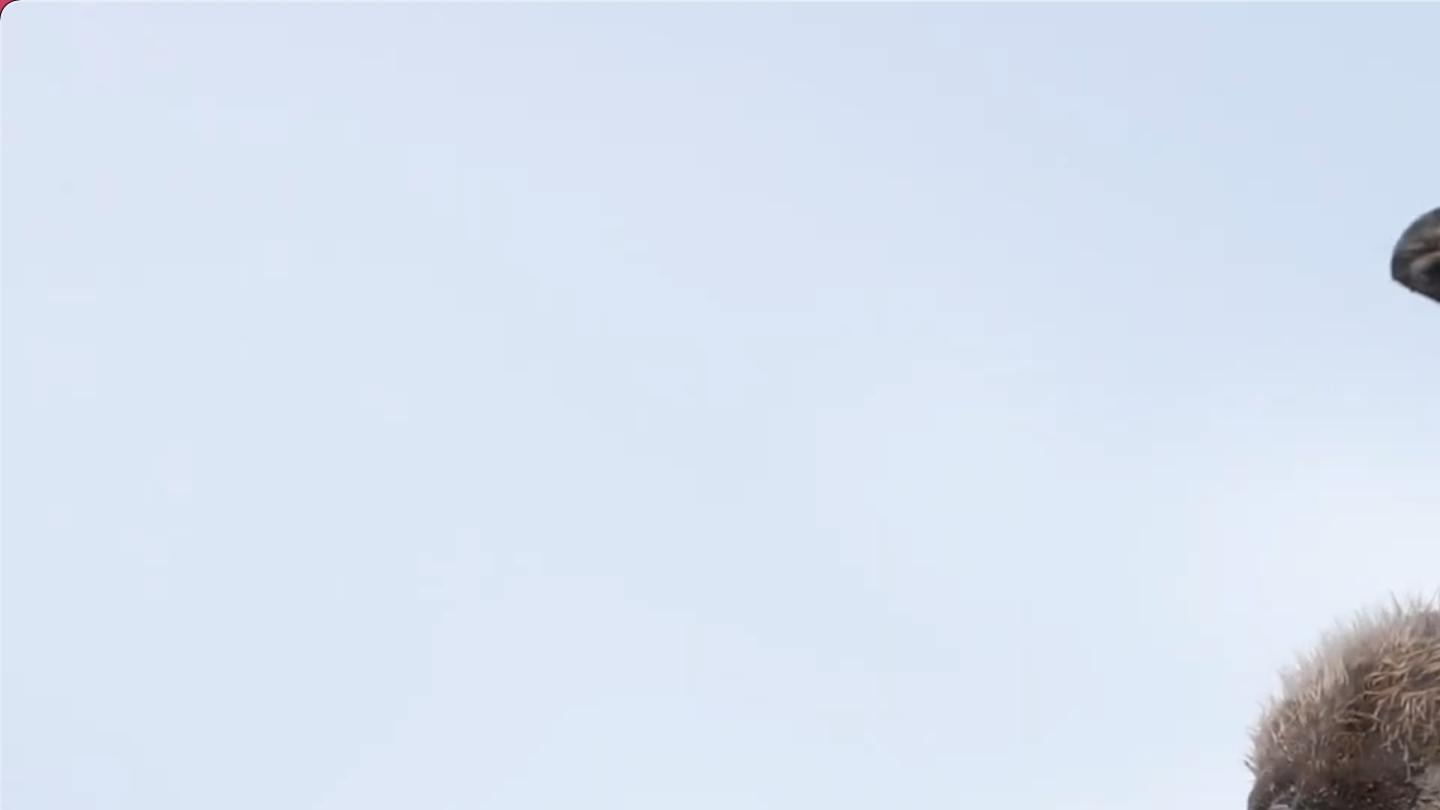Chinstrap Penguin: (1336, 0, 1440, 601)
